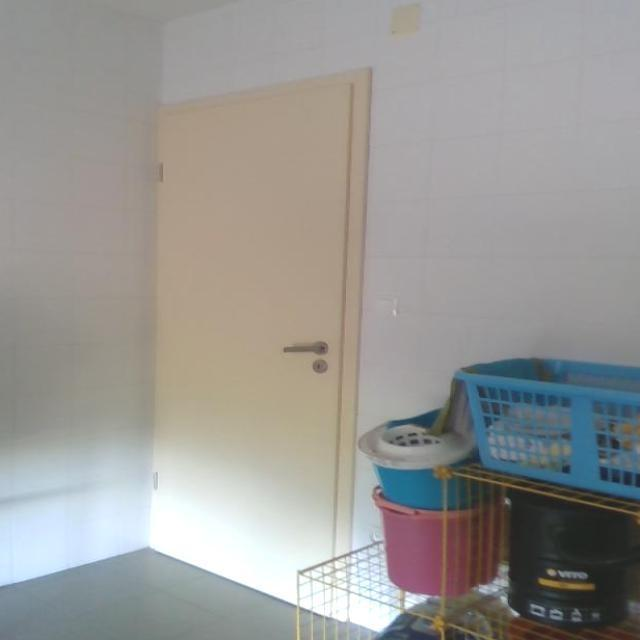door: (149, 68, 366, 612)
